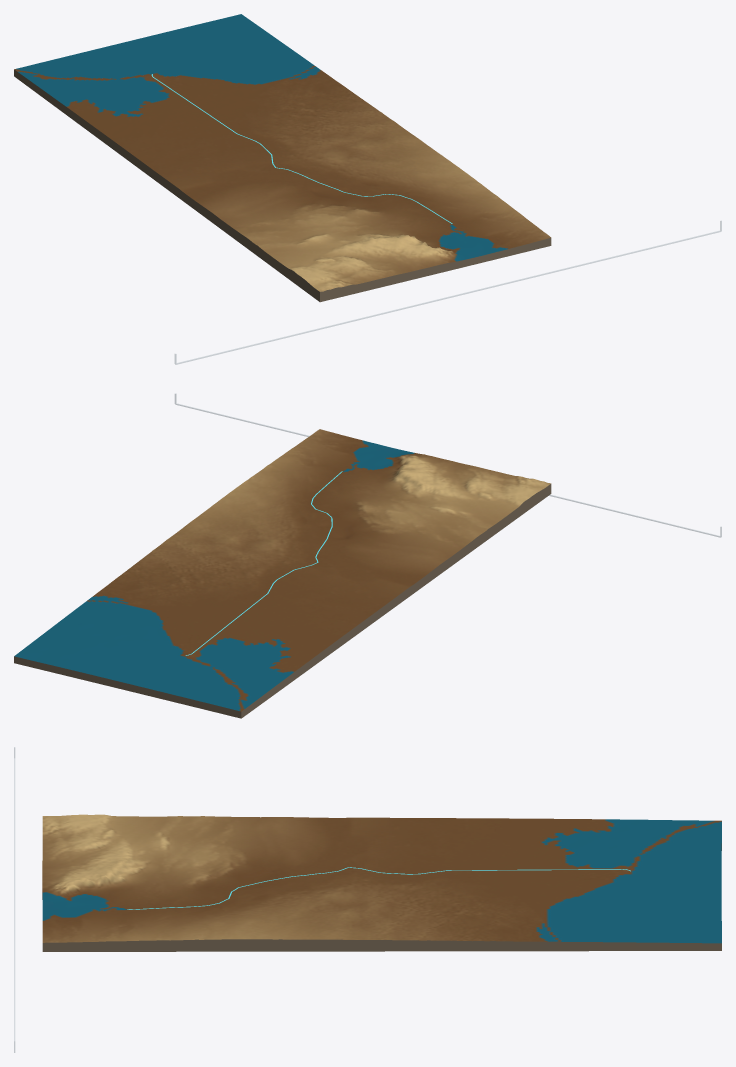
The model's file is terrain3d-suez.glb.
3 renders of one model, top to bottom at view 1: azimuth 30°, elevation 25°; view 2: azimuth 150°, elevation 25°; view 3: azimuth 270°, elevation 25°, orthographic. The views are drawn at different scales.
Visible parts, largest first — view 1: Measured elevation surface, Opaque geographic crop sides, Straightened total-length reference; view 2: Measured elevation surface, Opaque geographic crop sides, Straightened total-length reference; view 3: Measured elevation surface, Opaque geographic crop sides, Mapped waterway centerlines (display-width ribbon), Straightened total-length reference.
Boxes of the visible parts, left/top/right/bottom form: Measured elevation surface: left=14, top=14, right=550, bottom=291; Opaque geographic crop sides: left=14, top=69, right=551, bottom=302; Straightened total-length reference: left=175, top=230, right=721, bottom=364; Measured elevation surface: left=14, top=429, right=550, bottom=711; Opaque geographic crop sides: left=14, top=484, right=551, bottom=718; Straightened total-length reference: left=175, top=403, right=720, bottom=537; Measured elevation surface: left=42, top=814, right=721, bottom=943; Opaque geographic crop sides: left=42, top=843, right=721, bottom=951; Mapped waterway centerlines (display-width ribbon): left=127, top=867, right=630, bottom=909; Straightened total-length reference: left=14, top=758, right=15, bottom=1052.
Size of the model in its own units: 193687 by 10358 by 197031.
4 materials, 1 textured.
